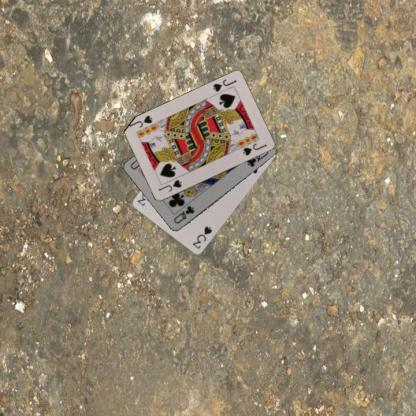3s: (190, 224, 213, 250)
Js: (210, 77, 238, 93), (156, 178, 182, 194)
Qc: (171, 204, 195, 226)
